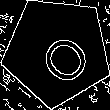O_NW: (24, 18, 90, 85)
